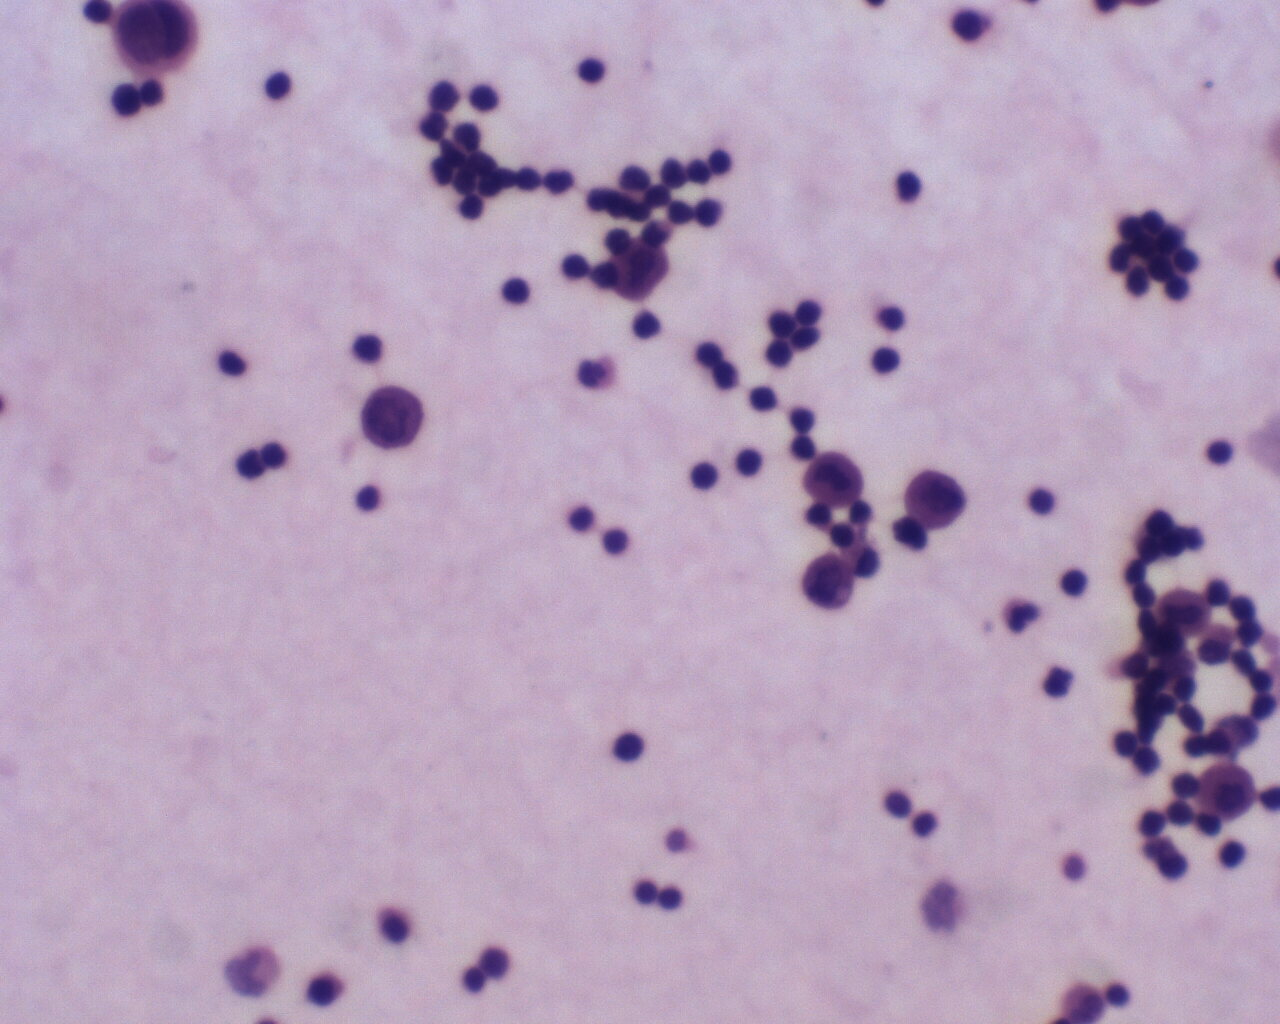ab: (109, 1, 203, 82), (362, 381, 430, 453), (900, 465, 970, 533), (606, 233, 671, 298), (800, 450, 866, 509), (799, 551, 855, 610)
lymph: (263, 62, 300, 109), (1021, 479, 1061, 520), (595, 518, 633, 558), (888, 166, 926, 207), (686, 455, 723, 496), (627, 306, 669, 343), (613, 725, 647, 770), (877, 782, 912, 819), (1198, 437, 1238, 469), (498, 274, 533, 308), (744, 378, 775, 416), (575, 53, 609, 87), (876, 302, 907, 332)
meso: (1197, 757, 1258, 823)
neutro: (998, 588, 1045, 642)
